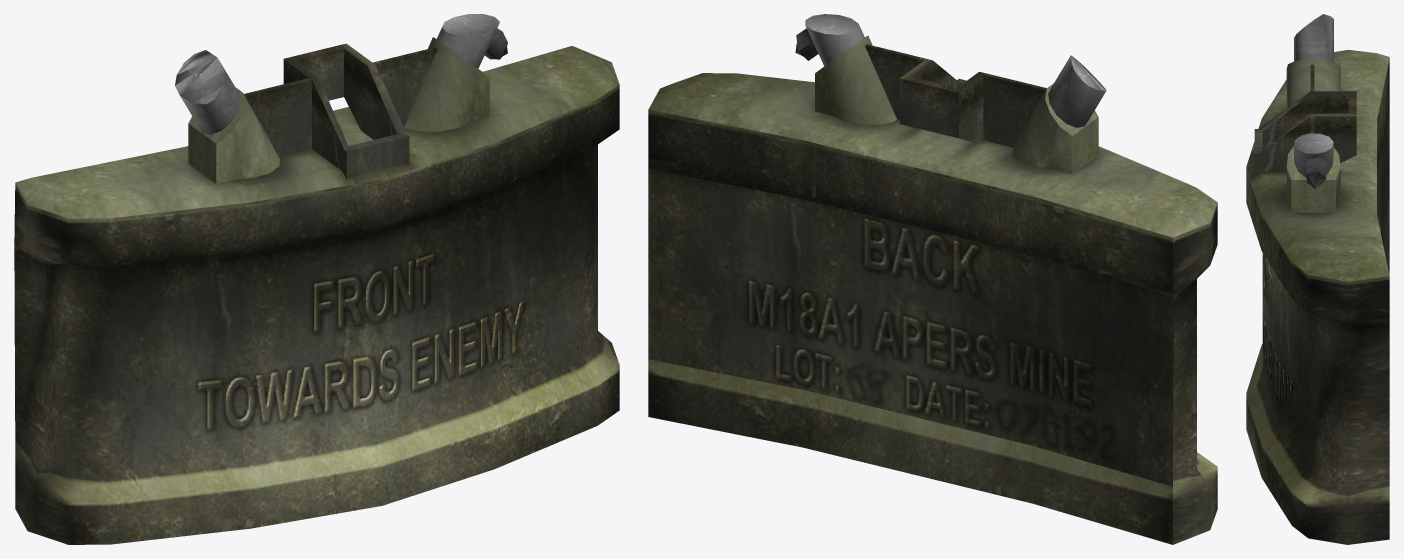
The model's file is clym_3ad.glb.
The picture shows the model from 3 angles, left to right: view 1: azimuth 30°, elevation 25°; view 2: azimuth 150°, elevation 25°; view 3: azimuth 270°, elevation 25°; orthographic projection. The views are drawn at different scales.
Parts seen in each view (by area): view 1: _clym_3ad; view 2: _clym_3ad; view 3: _clym_3ad.
Part boxes in pixels (x1,y1,x2,y2): _clym_3ad: [14, 14, 619, 544]; _clym_3ad: [648, 14, 1217, 544]; _clym_3ad: [1246, 14, 1389, 544].
Bounding box in the file's own units: 0.1962 × 0.1452 × 0.0516.
Materials: 1 (1 with a texture image).
